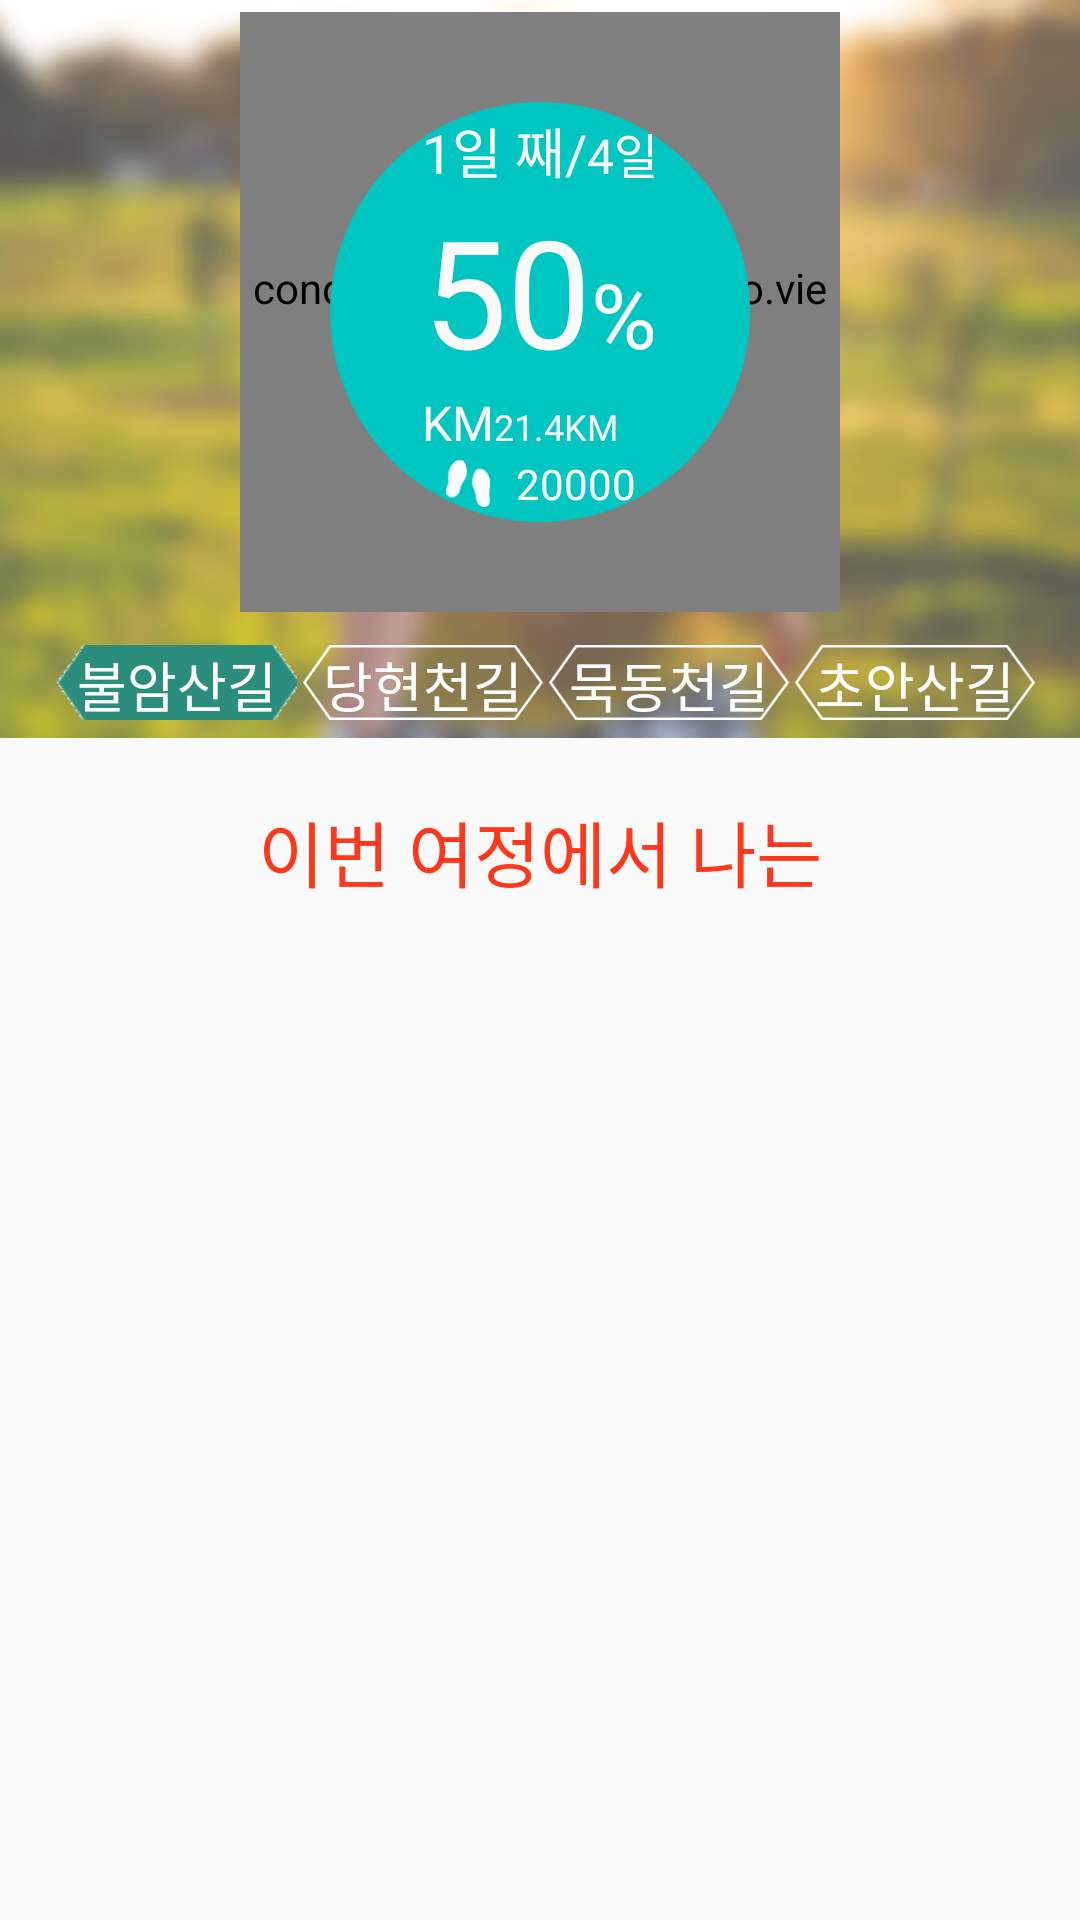

Locate icon controls on the screen. Image size 1080x1920, boxes as (x1, y1, x2, y2).
step: (446, 460, 490, 507)
